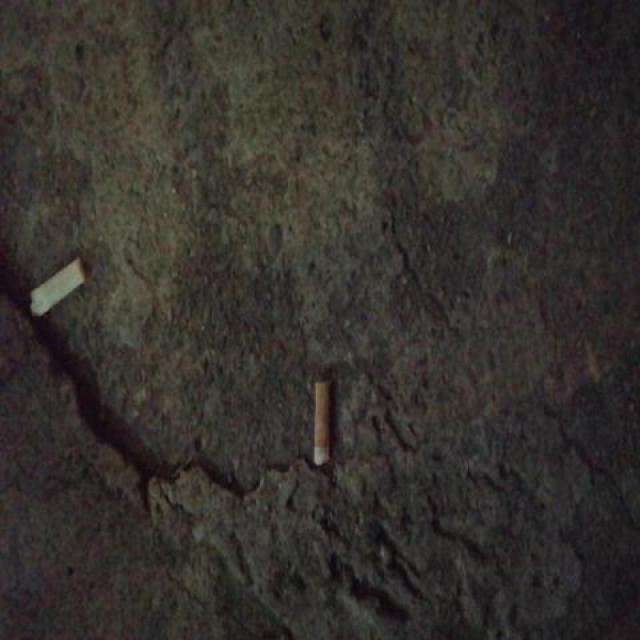non-organic waste: (24, 253, 89, 320), (309, 377, 335, 467)
